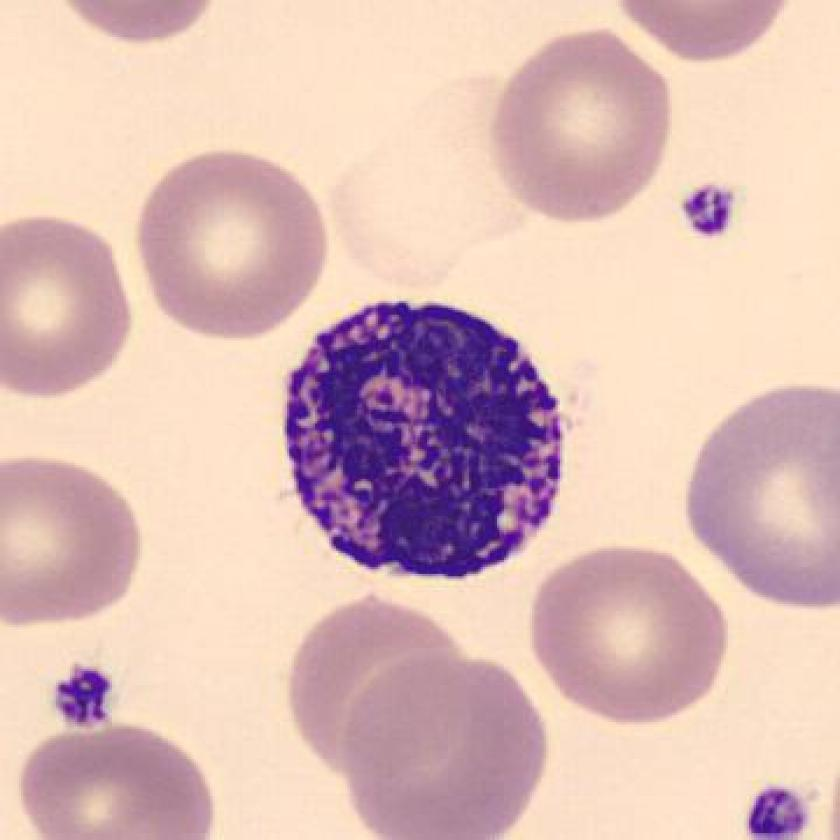basophil: (265, 291, 587, 594)
